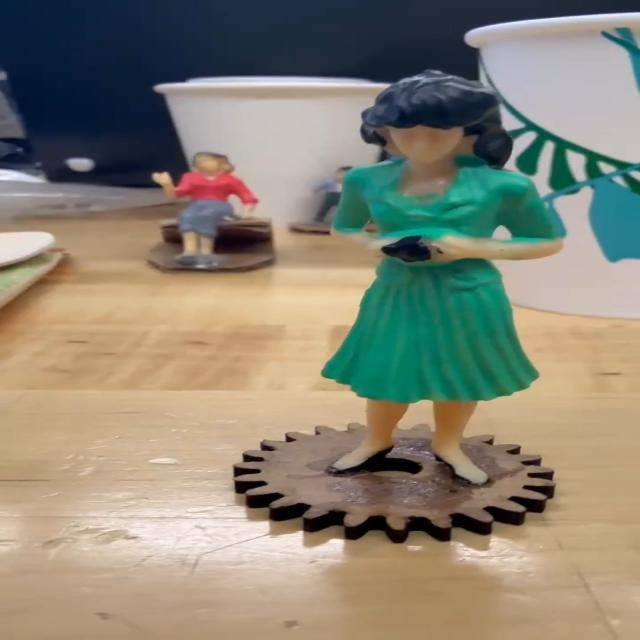Authorized: (278, 65, 606, 493)
